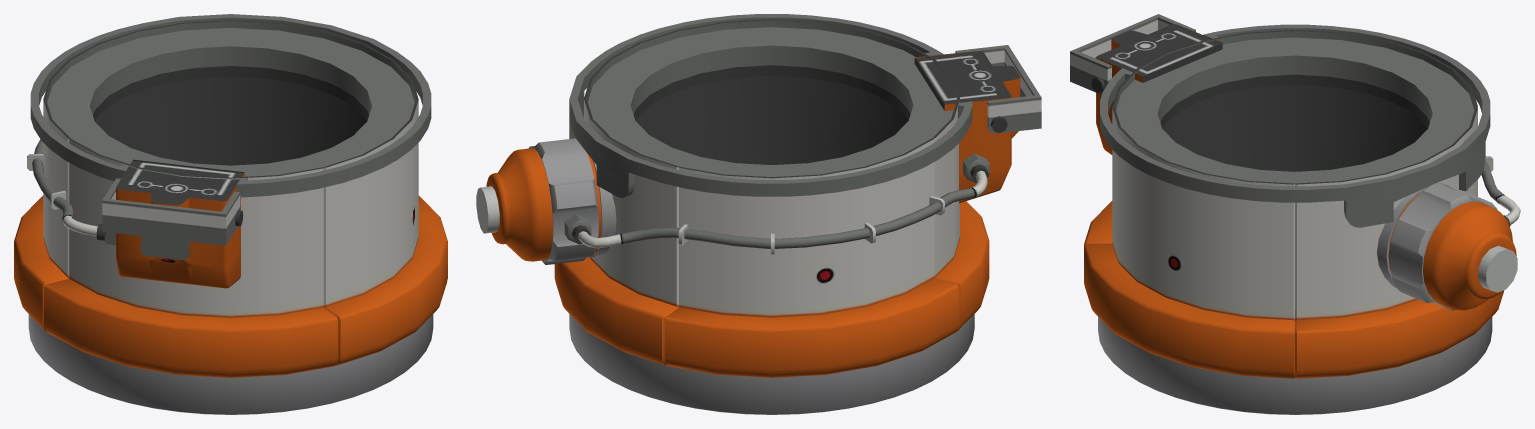
File: gel_orange.glb
3 views of the same model, side by side, from view 1: azimuth 30°, elevation 25°; view 2: azimuth 150°, elevation 25°; view 3: azimuth 270°, elevation 25° (orthographic). The views are drawn at different scales.
Visible parts, largest first — view 1: EDITOR_paint_dropper.004; view 2: EDITOR_paint_dropper.004; view 3: EDITOR_paint_dropper.004.
Boxes of the visible parts, x1,y1,x2,y2 form: EDITOR_paint_dropper.004: (14, 14, 447, 414); EDITOR_paint_dropper.004: (476, 14, 1041, 414); EDITOR_paint_dropper.004: (1070, 14, 1520, 414).
Bounding box in the file's own units: 1.52 × 0.894 × 1.54.
1 material, 1 textured.
